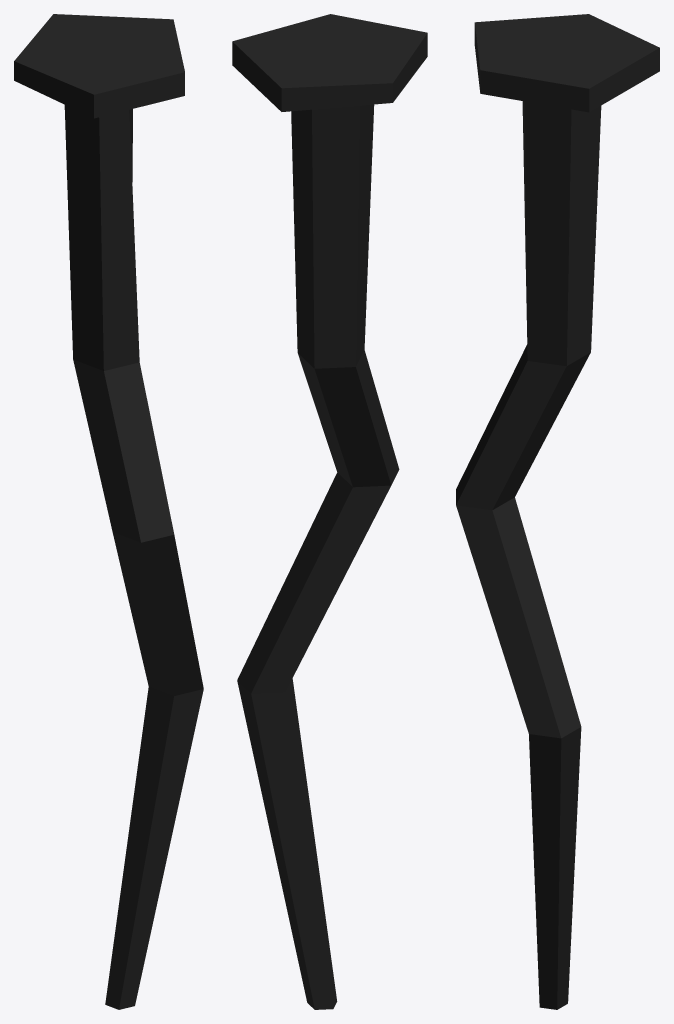
Rendered from nail04.gltf.
3 renders of one model, left to right at view 1: azimuth 30°, elevation 25°; view 2: azimuth 150°, elevation 25°; view 3: azimuth 270°, elevation 25°, orthographic.
Visible parts, largest first — view 1: Cube; view 2: Cube; view 3: Cube.
Boxes of the visible parts, x1,y1,x2,y2 form: Cube: (14,14,203,1009); Cube: (232,14,427,1009); Cube: (456,14,659,1009).
Size of the model in its own units: 0.0101 by 0.0543 by 0.0106.
1 material, 1 textured.
